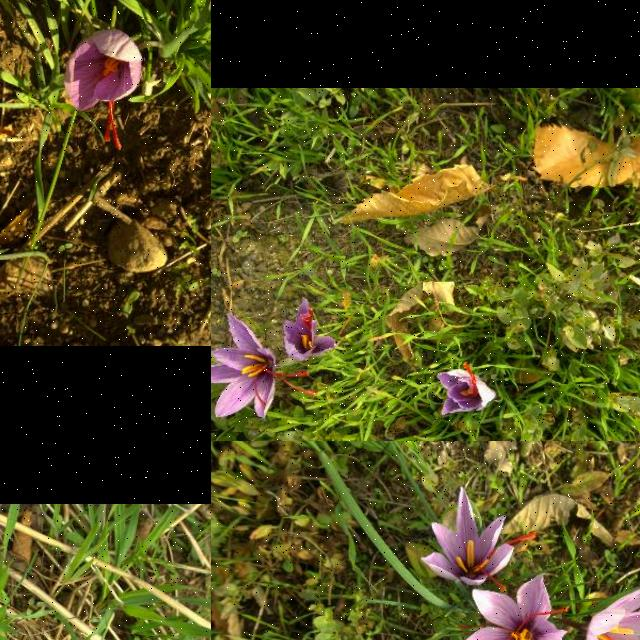flower: (420, 487, 536, 593), (211, 313, 316, 419), (63, 32, 143, 150), (442, 573, 570, 640), (282, 297, 336, 361), (585, 585, 640, 640), (438, 363, 496, 415)
